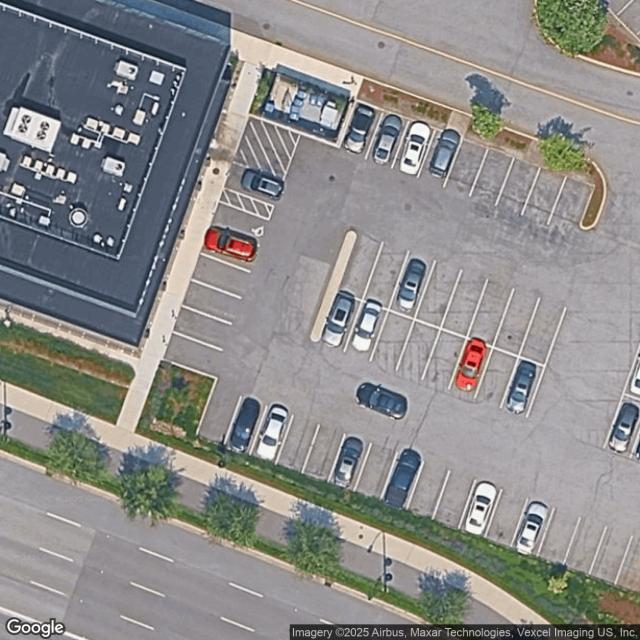car: (382, 443, 424, 509), (391, 253, 434, 317), (200, 223, 261, 267), (450, 334, 492, 397), (327, 430, 369, 493), (223, 393, 265, 455), (253, 403, 295, 465), (392, 253, 432, 316), (318, 289, 357, 352), (395, 118, 435, 178), (424, 124, 465, 182), (460, 478, 500, 537), (349, 296, 387, 357), (502, 356, 540, 417), (340, 99, 379, 158), (513, 498, 551, 557), (370, 109, 406, 167), (238, 165, 289, 205), (606, 398, 639, 455)
lot_boundary: (162, 99, 639, 593)
objects: (310, 230, 357, 345), (237, 115, 302, 179), (220, 187, 274, 219)
stall: (492, 287, 539, 354), (519, 297, 566, 364), (389, 252, 436, 319), (415, 260, 462, 326), (441, 269, 488, 335), (467, 279, 514, 345), (362, 242, 408, 309), (337, 233, 383, 300), (549, 177, 594, 237), (369, 311, 414, 371), (470, 145, 514, 206), (448, 336, 492, 397), (501, 357, 545, 418), (444, 137, 488, 198), (496, 157, 540, 218), (381, 451, 425, 512), (192, 253, 251, 298), (201, 227, 260, 272), (183, 280, 242, 325), (173, 305, 232, 350), (165, 332, 224, 377), (227, 162, 286, 207), (344, 300, 388, 360), (396, 319, 440, 379), (423, 328, 467, 388), (475, 347, 519, 407), (365, 109, 409, 169), (391, 118, 435, 178), (418, 128, 462, 188), (522, 166, 566, 226), (339, 98, 383, 158), (211, 201, 270, 245), (320, 290, 362, 350), (485, 490, 528, 547), (198, 387, 241, 444), (302, 426, 345, 482), (406, 462, 449, 518), (432, 471, 475, 527), (459, 480, 502, 536), (511, 500, 554, 556), (537, 509, 580, 565), (564, 517, 607, 573), (589, 527, 632, 583), (276, 416, 319, 472), (329, 434, 372, 490), (356, 444, 399, 500), (223, 398, 266, 454), (251, 408, 294, 464), (603, 394, 639, 457), (618, 536, 639, 593)
